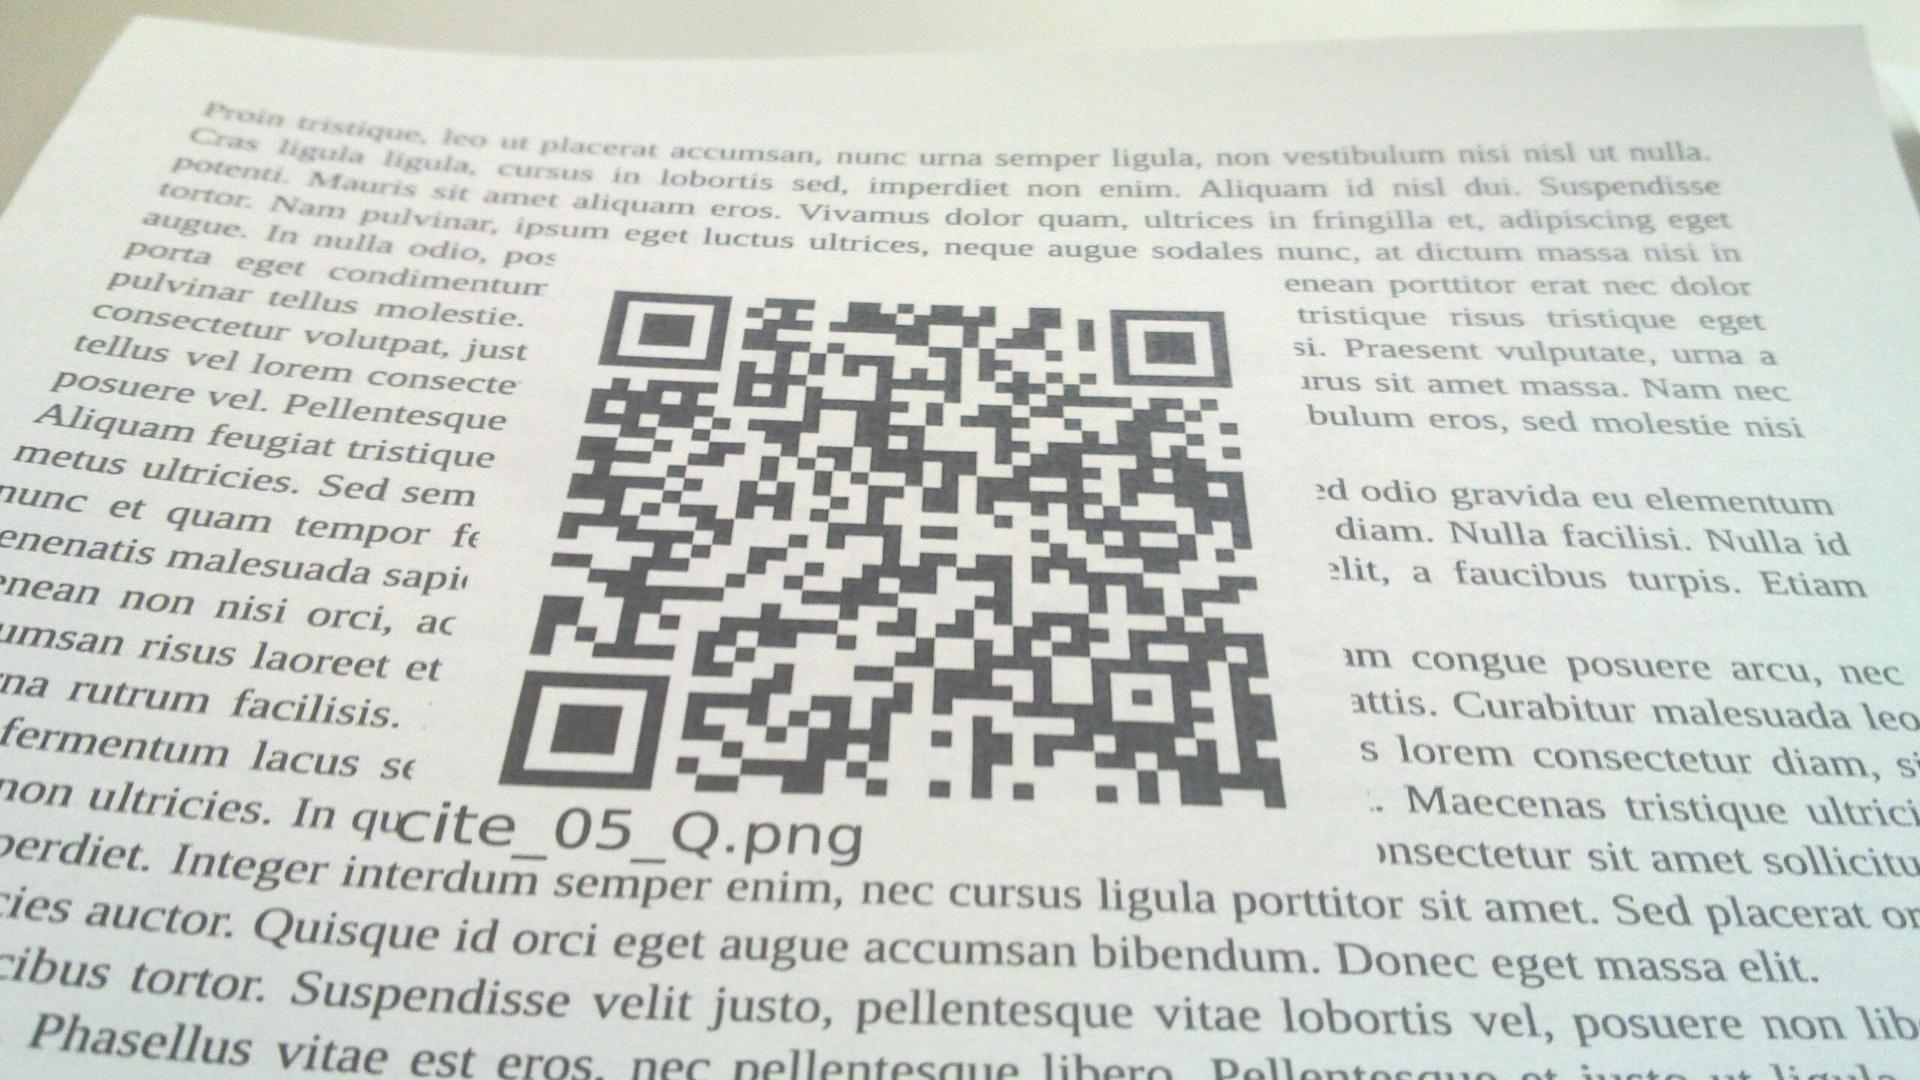Finder pattern: (491, 670, 675, 793), (593, 285, 736, 373), (1098, 305, 1241, 393)
